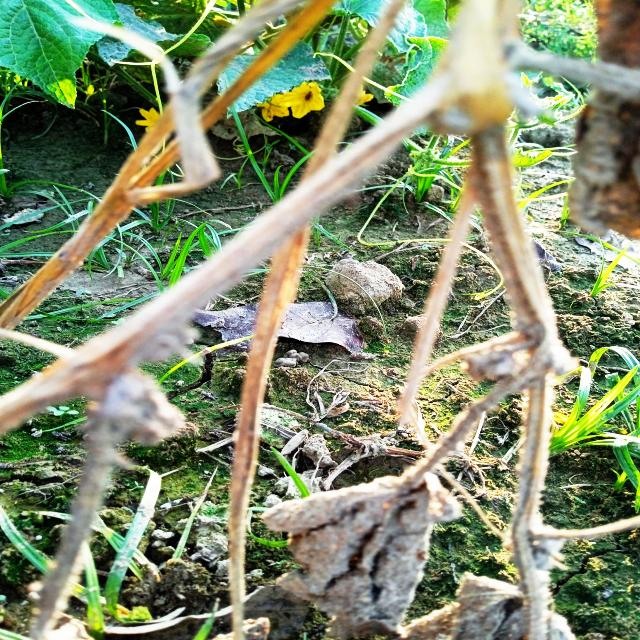Bacterial-Wilt: (263, 473, 468, 640), (403, 567, 577, 640)
